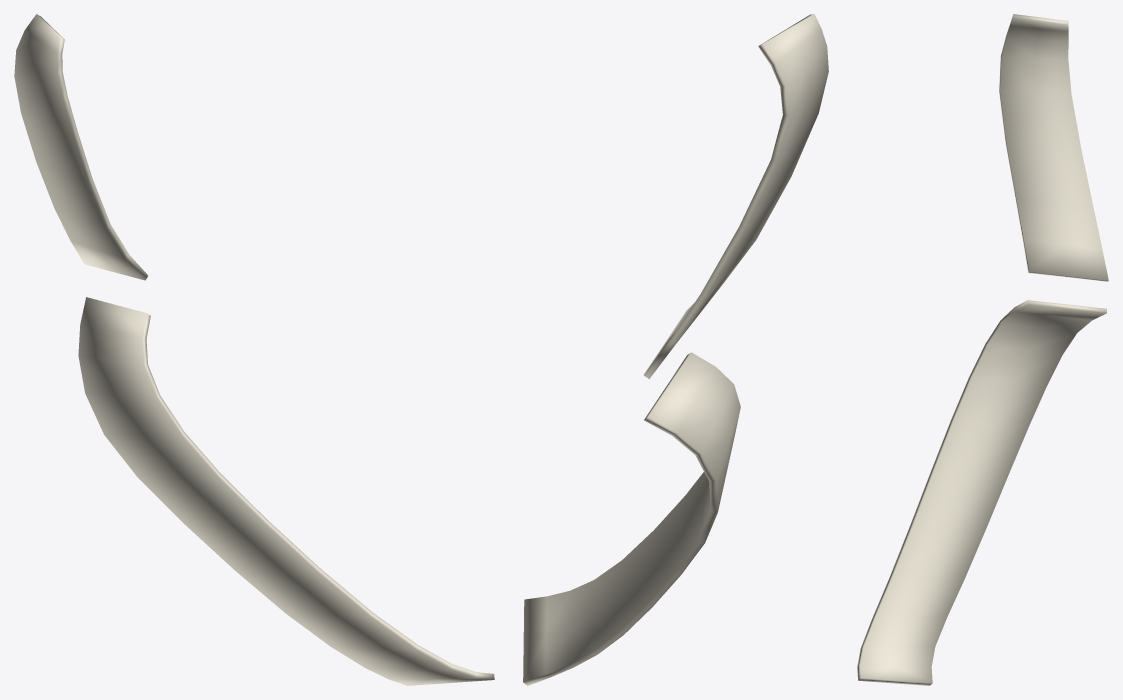
3 renders of one model, left to right at view 1: azimuth 30°, elevation 25°; view 2: azimuth 150°, elevation 25°; view 3: azimuth 270°, elevation 25°, orthographic. The views are drawn at different scales.
Parts seen in each view (by area): view 1: ZA_977645a99ac278c6; view 2: ZA_977645a99ac278c6; view 3: ZA_977645a99ac278c6.
Boxes of the visible parts, x1,y1,x2,y2 form: ZA_977645a99ac278c6: (14, 14, 494, 685); ZA_977645a99ac278c6: (523, 14, 828, 685); ZA_977645a99ac278c6: (857, 14, 1108, 685).
Bounding box in the file's own units: 0.034 × 0.0628 × 0.0258.
